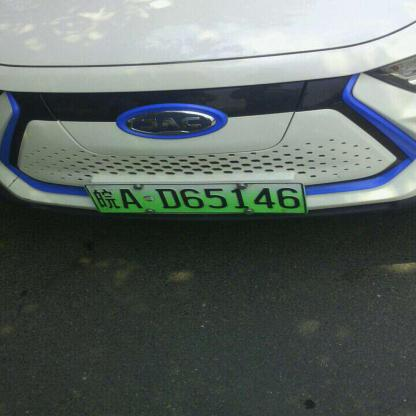lp: (86, 182, 307, 212)
